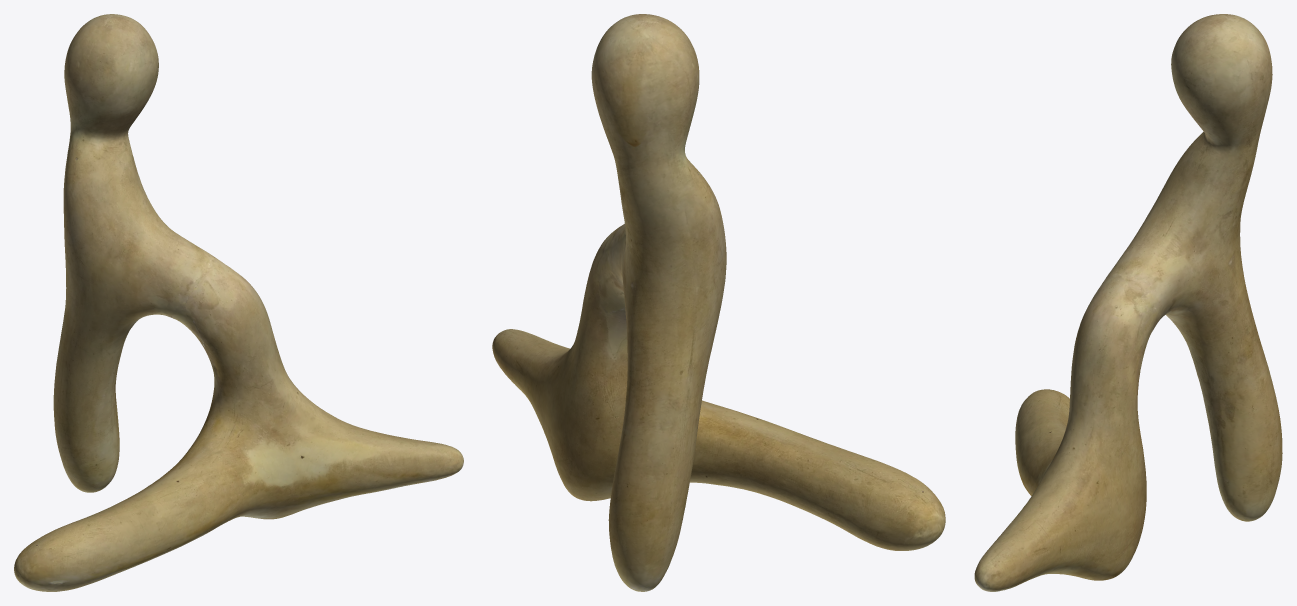
File: preview.glb
3 renders of one model, left to right at view 1: azimuth 30°, elevation 25°; view 2: azimuth 150°, elevation 25°; view 3: azimuth 270°, elevation 25°, orthographic. The views are drawn at different scales.
Visible parts, largest first — view 1: Model_material0_0; view 2: Model_material0_0; view 3: Model_material0_0.
Boxes of the visible parts, x1,y1,x2,y2 form: Model_material0_0: [14, 14, 463, 591]; Model_material0_0: [492, 14, 945, 591]; Model_material0_0: [974, 14, 1282, 591].
Bounding box in the file's own units: 0.1731 × 0.1907 × 0.1051.
Materials: 1 (1 with a texture image).
